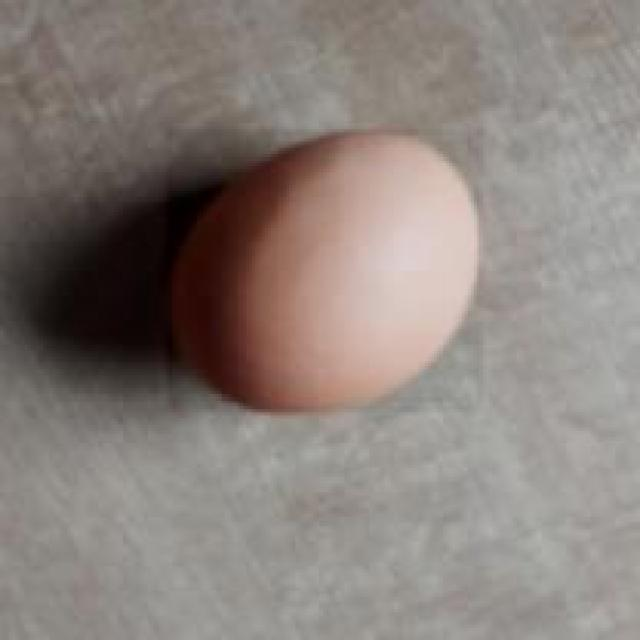egg: (166, 130, 486, 416)
